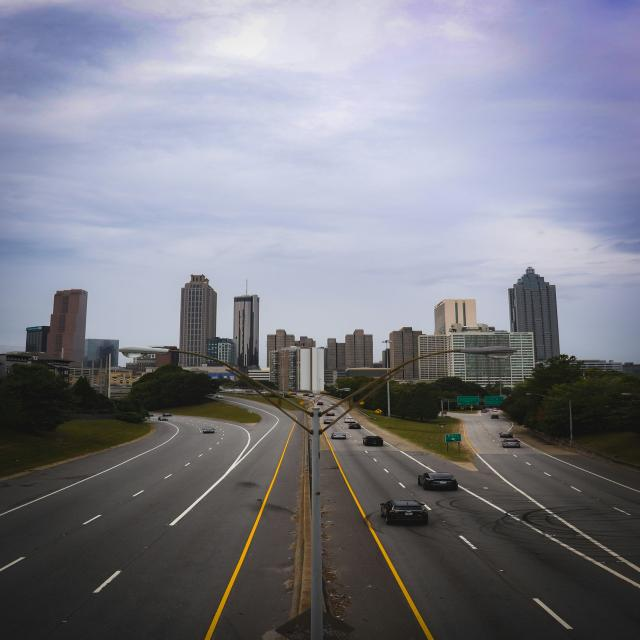Car: (362, 436, 383, 446), (502, 438, 520, 448), (331, 432, 346, 440), (201, 427, 215, 433), (348, 423, 361, 429), (322, 418, 334, 424), (499, 432, 513, 437), (490, 414, 499, 419), (326, 412, 334, 416)
